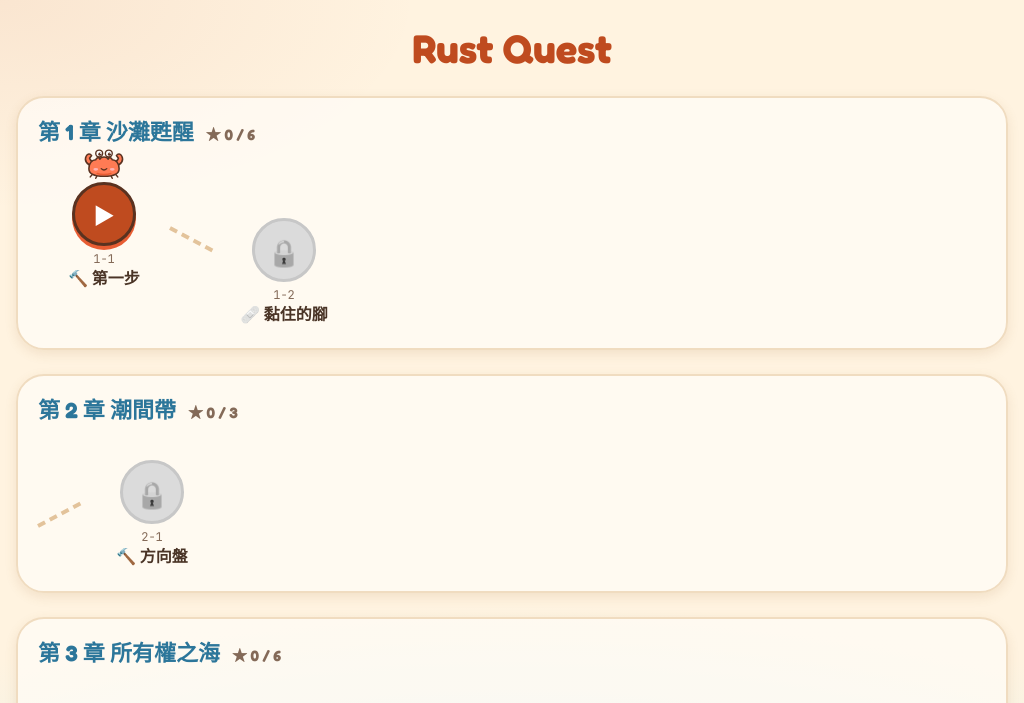
Test: F7 LevelMapView 章節地圖 › 點鎖定節點不跳頁，顯示「先完成〈前一關名稱〉」
This screenshot has width=1024, height=703.
Click the button "🔒 1-2 🩹 黏住的腳": click(284, 271) [218,218,350,324]
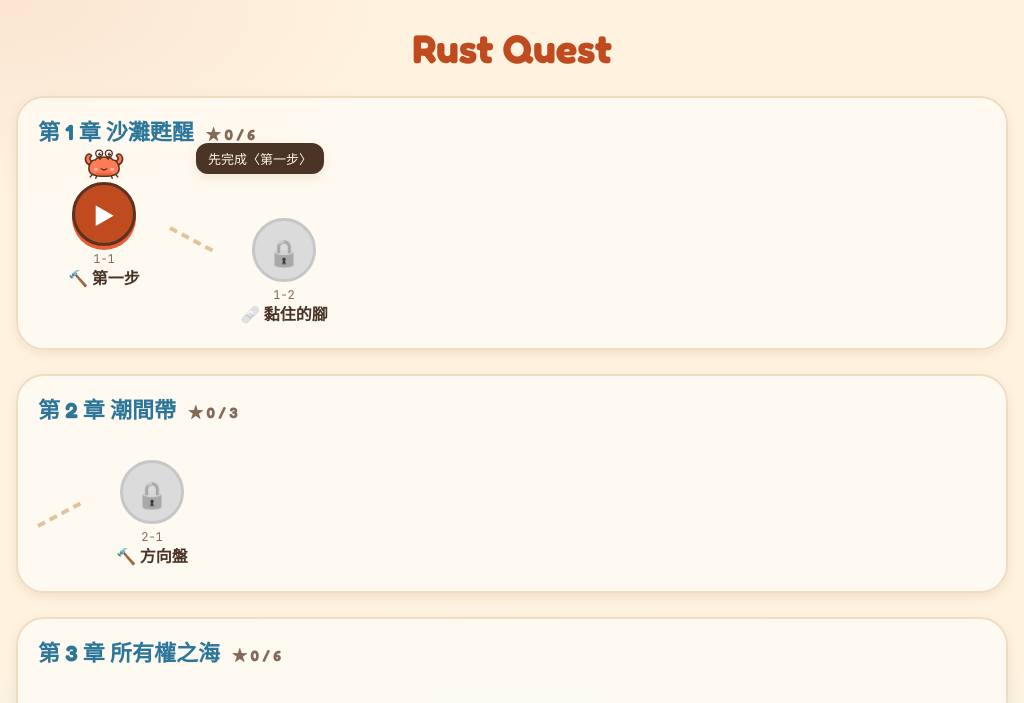
Expected: the tooltip "先完成〈第一步〉" is shown, [196,143,324,174]
